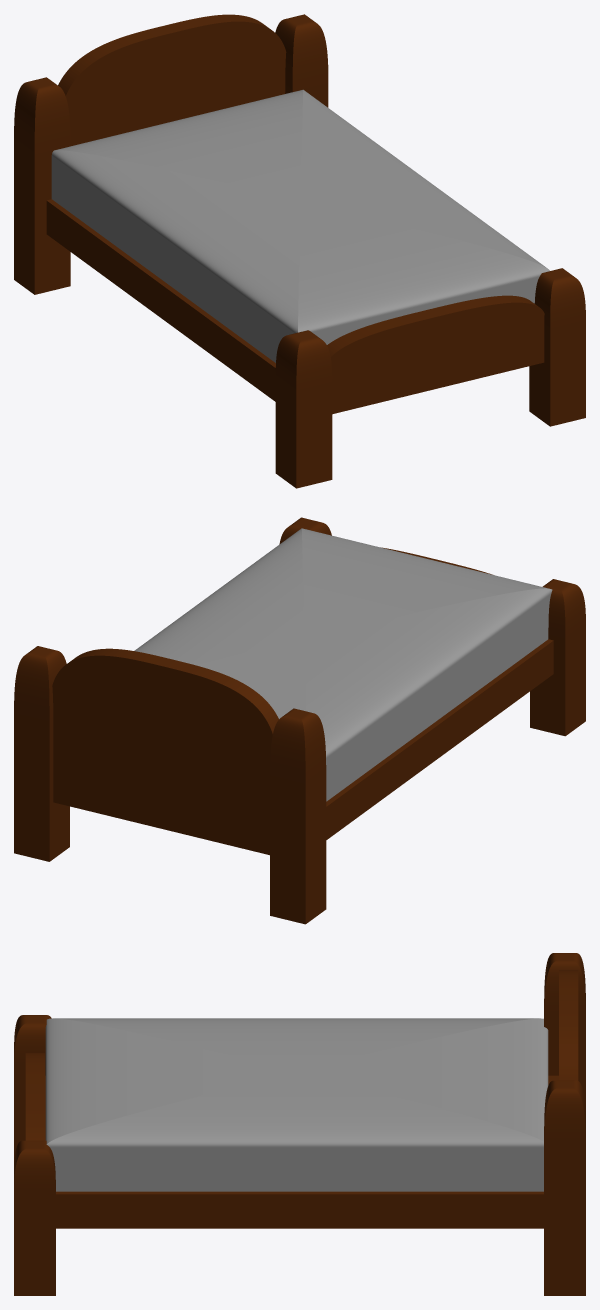
The model's file is Cama.fbx.
3 renders of one model, top to bottom at view 1: azimuth 30°, elevation 25°; view 2: azimuth 150°, elevation 25°; view 3: azimuth 270°, elevation 25°, orthographic. The views are drawn at different scales.
Visible parts, largest first — view 1: Cube.068; view 2: Cube.068; view 3: Cube.068.
Boxes of the visible parts, x1=… form: Cube.068: x1=14, y1=14, x2=585, y2=488; Cube.068: x1=14, y1=517, x2=585, y2=924; Cube.068: x1=14, y1=953, x2=585, y2=1295.
Bounding box in the file's own units: 472 × 343 × 785.
